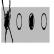correct: (28, 11, 34, 32)
not correct: (1, 0, 14, 43)
